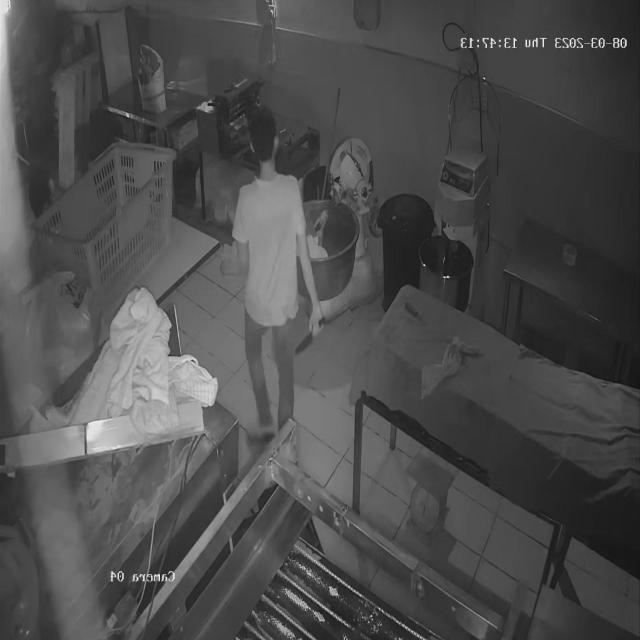Knife: (296, 314, 328, 359)
